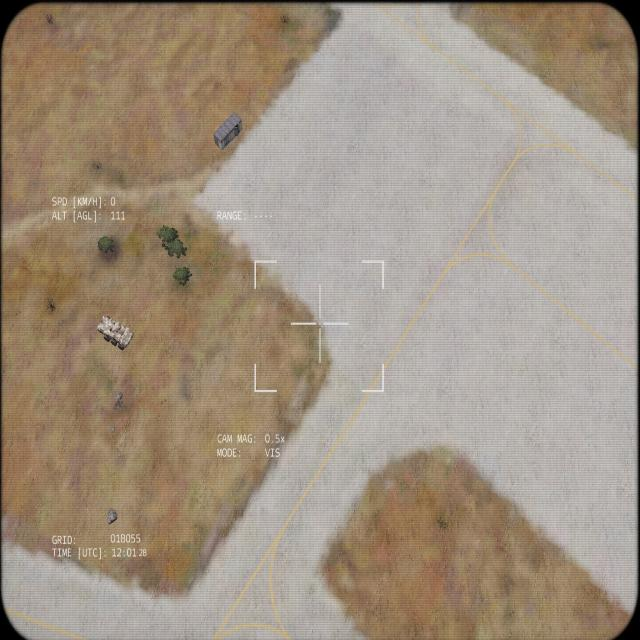apc: (96, 314, 133, 350)
